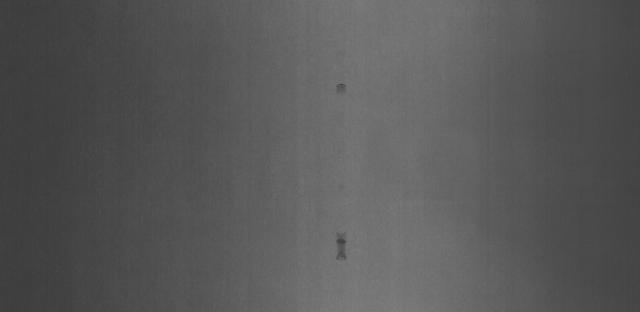oil_spot: (326, 225, 361, 266), (329, 70, 356, 104)
